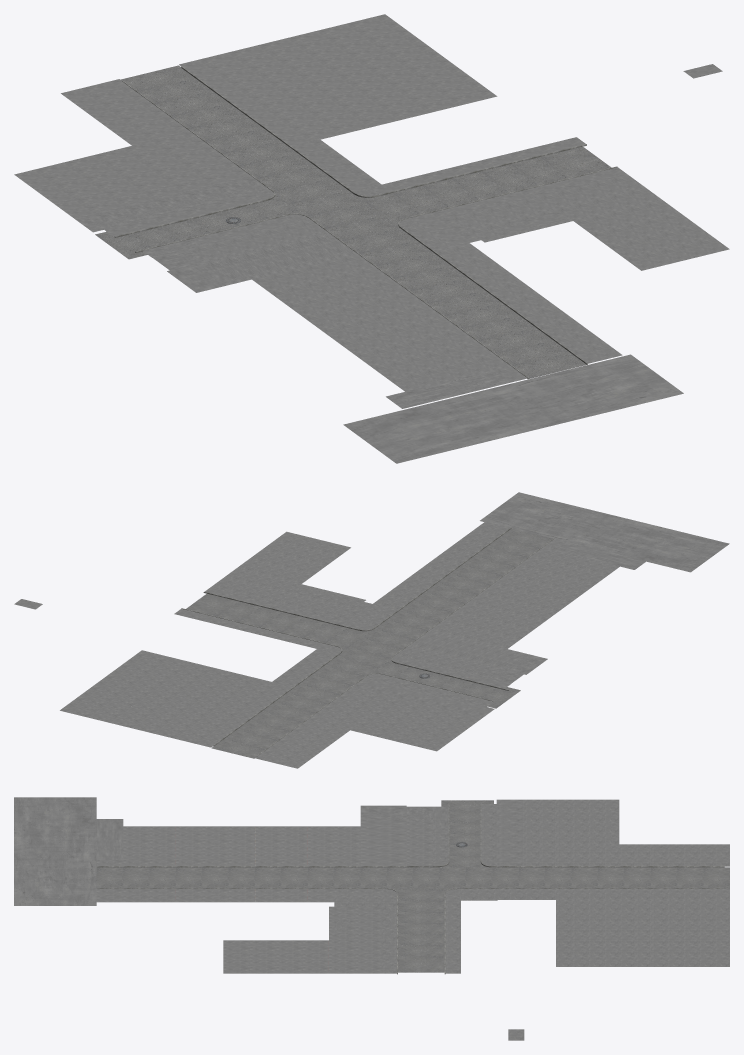
Rendered from MKW_Road.fbx.
3 views of the same model, one above another, from view 1: azimuth 30°, elevation 25°; view 2: azimuth 150°, elevation 25°; view 3: azimuth 270°, elevation 25° (orthographic). The views are drawn at different scales.
Visible parts, largest first — view 1: MKW_Road; view 2: MKW_Road; view 3: MKW_Road.
Part boxes in pixels (x1,y1,x2,y2): MKW_Road: [14, 14, 729, 463]; MKW_Road: [14, 492, 729, 768]; MKW_Road: [14, 797, 729, 1040].
Bounding box in the file's own units: 5471 × 12.67 × 6785.
1 material, 1 textured.
